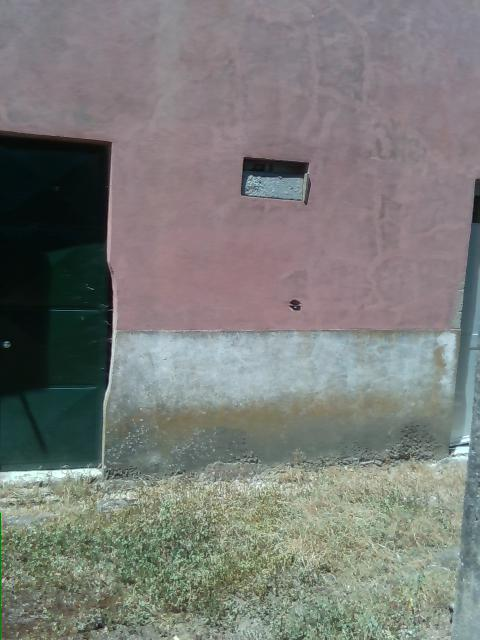door: (0, 126, 114, 478)
